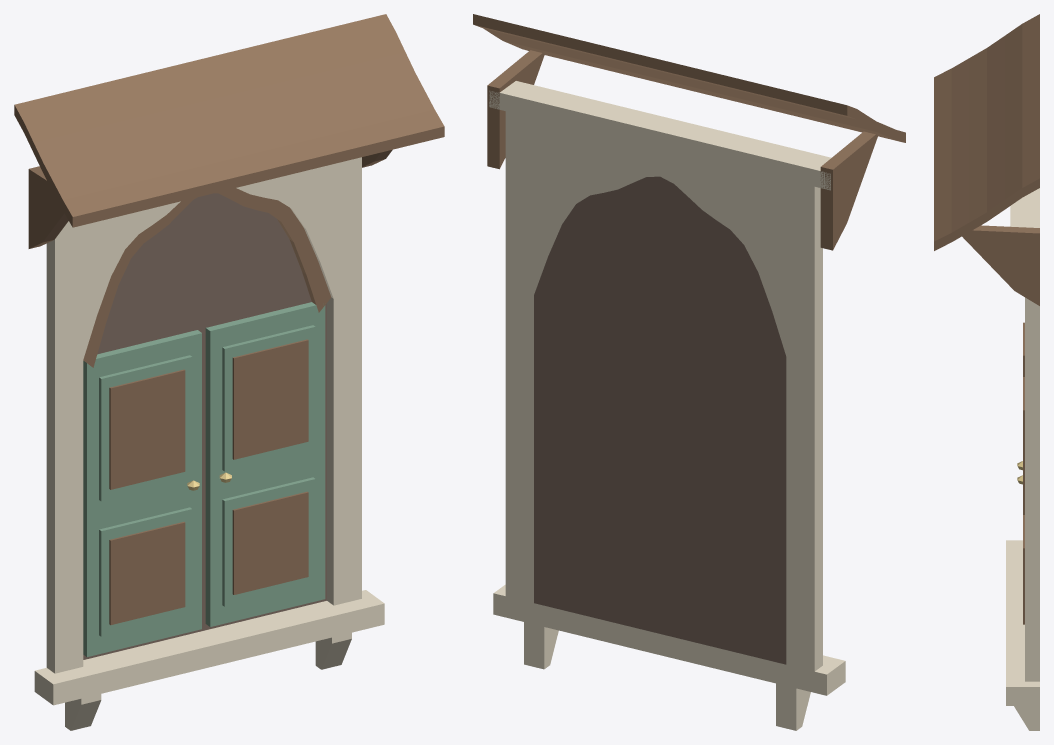
The model's file is kit_window_arched.glb.
3 renders of one model, left to right at view 1: azimuth 30°, elevation 25°; view 2: azimuth 150°, elevation 25°; view 3: azimuth 270°, elevation 25°, orthographic. The views are drawn at different scales.
Visible parts, largest first — view 1: kit_window_arched; view 2: kit_window_arched; view 3: kit_window_arched.
Boxes of the visible parts, x1=… form: kit_window_arched: x1=14, y1=14, x2=444, y2=730; kit_window_arched: x1=473, y1=14, x2=905, y2=730; kit_window_arched: x1=934, y1=14, x2=1039, y2=730.
Bounding box in the file's own units: 1.84 × 3 × 0.4999.
